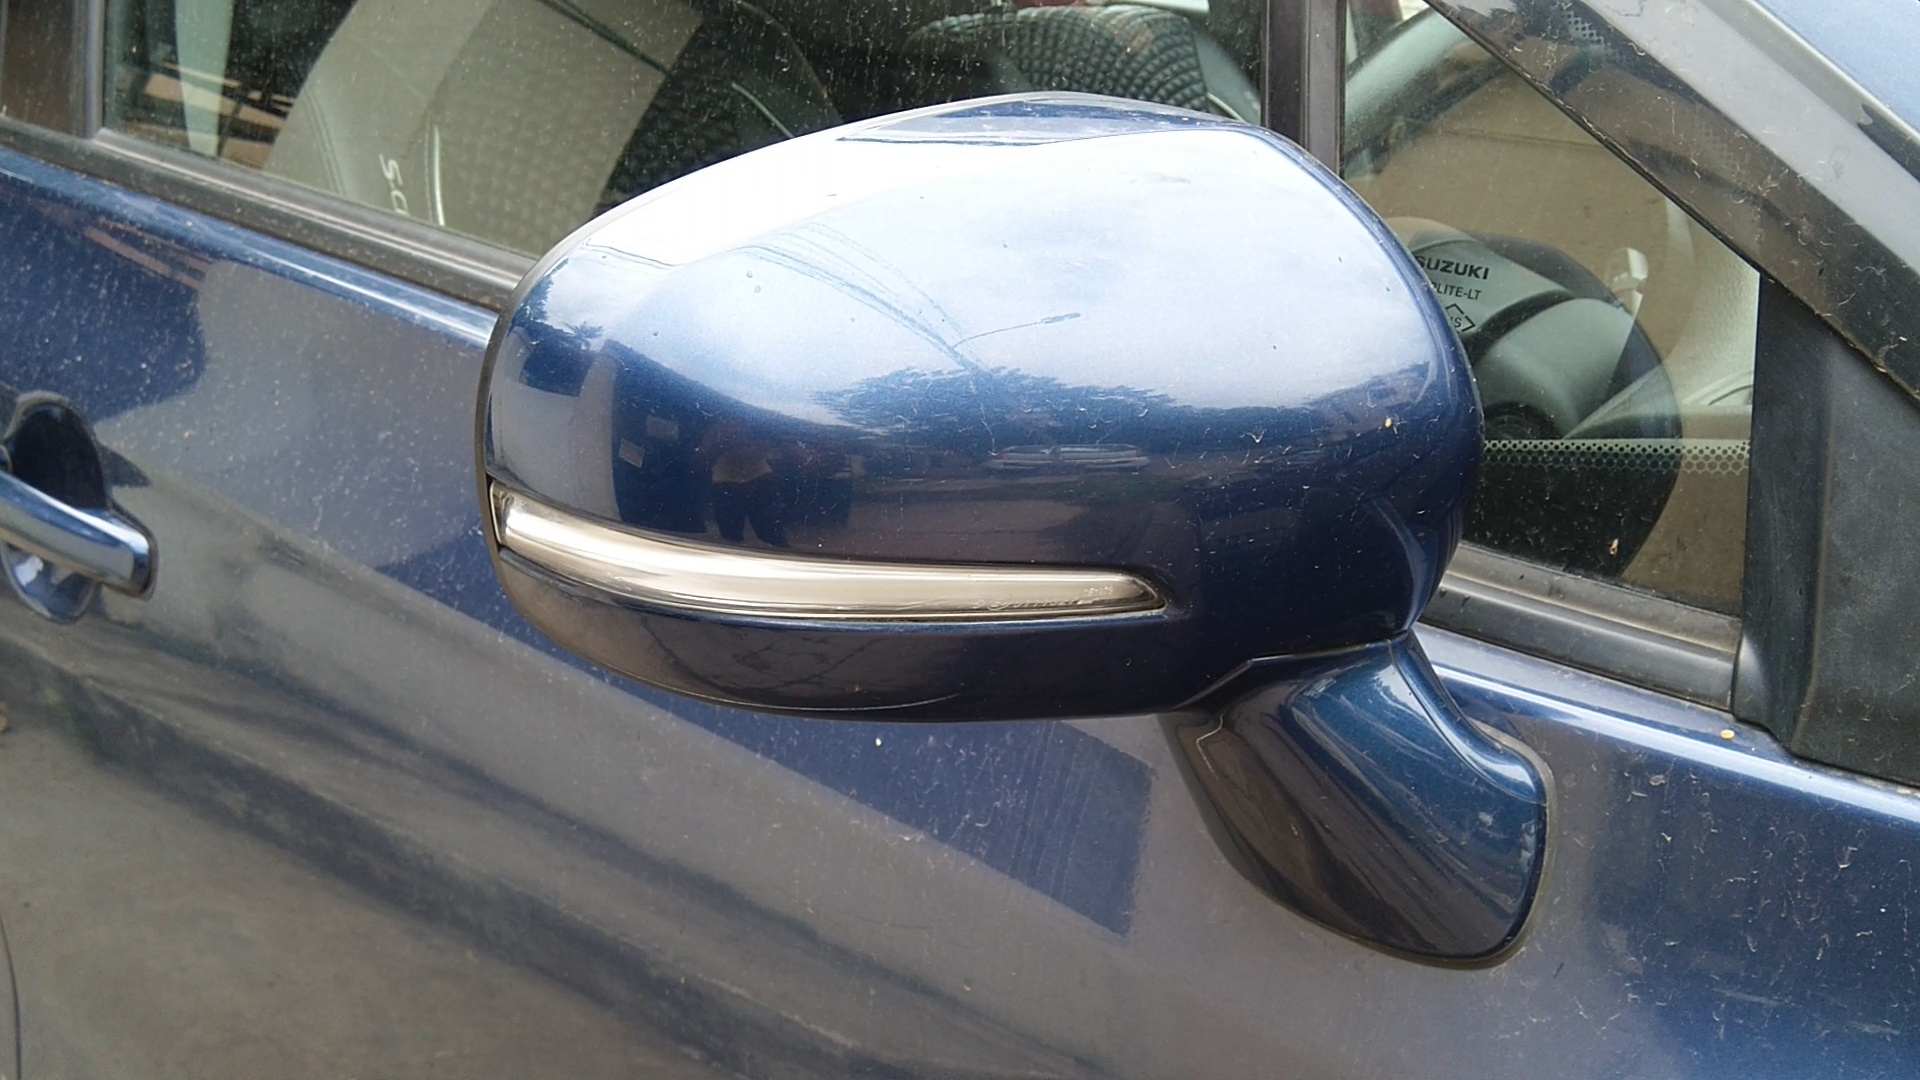ovr_mirror: (451, 73, 1592, 1007)
